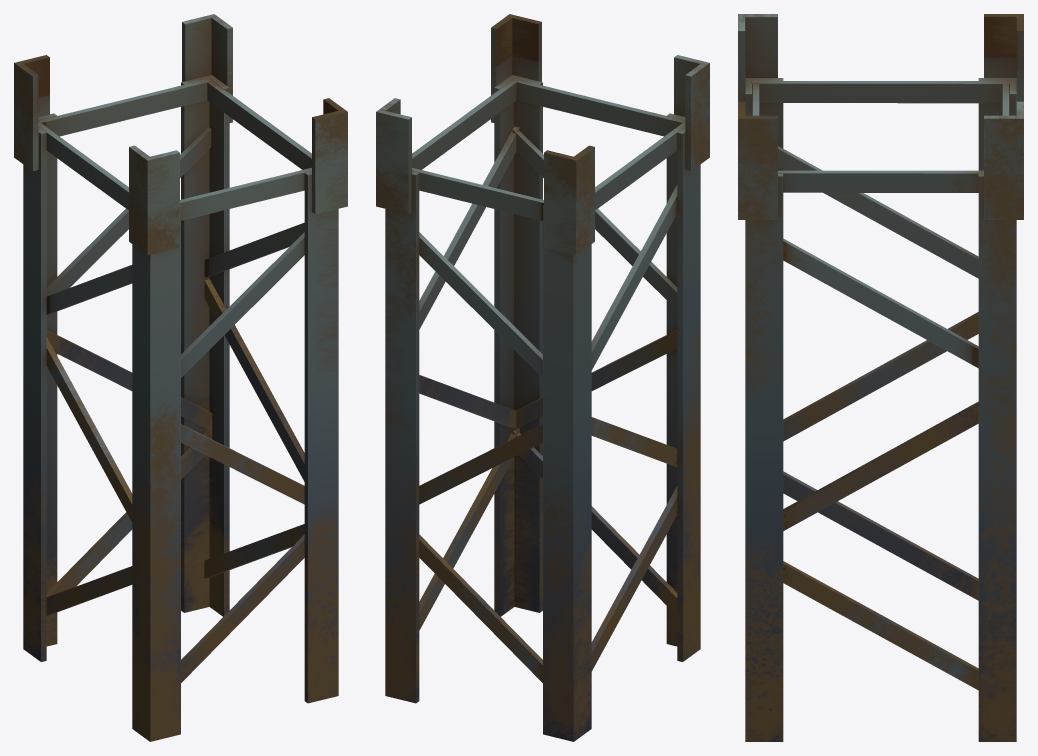
File: MetalPillar1.glb
3 renders of one model, left to right at view 1: azimuth 30°, elevation 25°; view 2: azimuth 150°, elevation 25°; view 3: azimuth 270°, elevation 25°, orthographic. The views are drawn at different scales.
Visible parts, largest first — view 1: MetalPillar1; view 2: MetalPillar1; view 3: MetalPillar1.
Part boxes in pixels (x1,y1,x2,y2): MetalPillar1: [14, 14, 347, 741]; MetalPillar1: [376, 14, 709, 741]; MetalPillar1: [738, 14, 1023, 741].
Bounding box in the file's own units: 0.7935 × 2.22 × 0.9167.
1 material, 1 textured.
